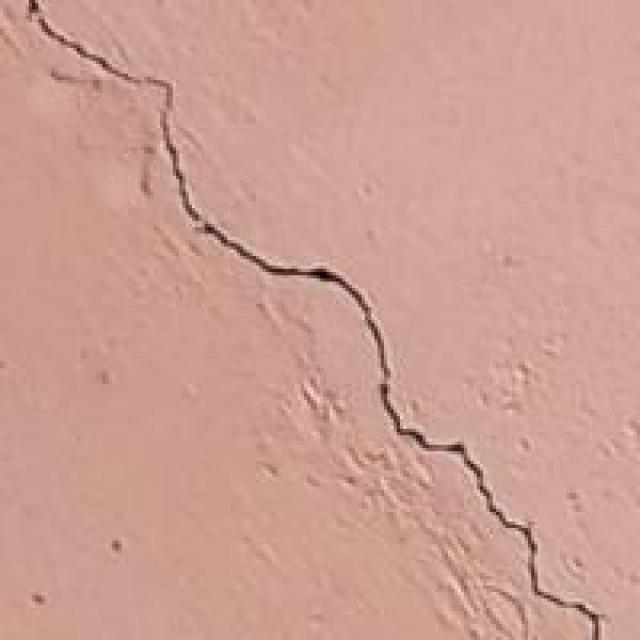crack: (29, 0, 608, 637)
